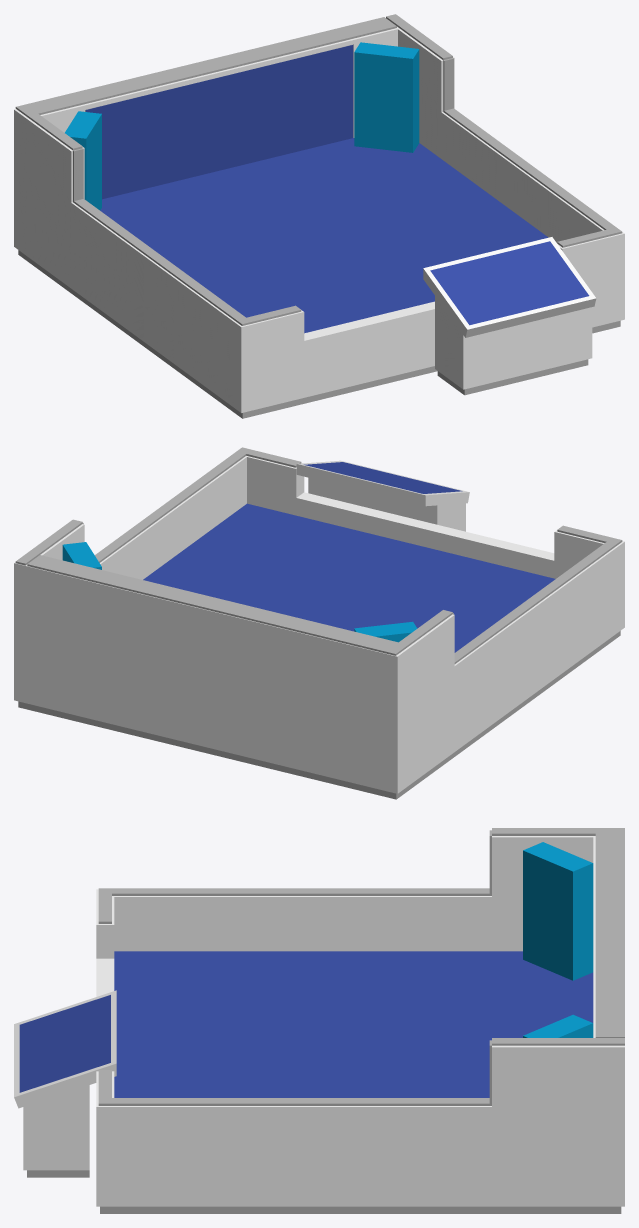
Rendered from arena.dae.
The picture shows the model from 3 angles, top to bottom: view 1: azimuth 30°, elevation 25°; view 2: azimuth 150°, elevation 25°; view 3: azimuth 270°, elevation 25°; orthographic projection. The views are drawn at different scales.
Parts seen in each view (by area): view 1: Floor_LED, pCube6, pCube7, pCube5, pCube4, Touchscreen2, Touchscreen.001, SnackBox, pCube16, pCube2, Touchscreen1, Sockel (+8 smaller); view 2: pCube2, Floor_LED, pCube7, pCube5, pCube4, pCube16, Sockel, Touchscreen2, Touchscreen1, pCube12, pCube18, Touchscreen.001 (+4 smaller); view 3: Floor_LED, pCube4, pCube7, SnackBox.001, Touchscreen.001, pCube16, pCube2, Touchscreen2, Sockel, pCube18, pCube12, Touchscreen1 (+4 smaller).
Boxes of the visible parts, x1=… form: Floor_LED: x1=100, y1=138, x2=548, y2=333; pCube6: x1=85, y1=44, x2=353, y2=199; pCube7: x1=27, y1=119, x2=254, y2=412; pCube5: x1=254, y1=236, x2=611, y2=409; pCube4: x1=398, y1=28, x2=624, y2=322; Touchscreen2: x1=435, y1=296, x2=592, y2=389; Touchscreen.001: x1=430, y1=241, x2=589, y2=325; SnackBox: x1=354, y1=42, x2=419, y2=152; pCube16: x1=26, y1=17, x2=396, y2=114; pCube2: x1=14, y1=26, x2=399, y2=256; Touchscreen1: x1=423, y1=237, x2=596, y2=337; Sockel: x1=18, y1=250, x2=620, y2=418; pCube2: x1=14, y1=562, x2=411, y2=793; Floor_LED: x1=143, y1=503, x2=555, y2=652; pCube7: x1=409, y1=541, x2=624, y2=783; pCube5: x1=247, y1=456, x2=604, y2=578; pCube4: x1=40, y1=456, x2=247, y2=579; pCube16: x1=27, y1=555, x2=398, y2=653; Sockel: x1=18, y1=631, x2=620, y2=799; Touchscreen2: x1=308, y1=477, x2=465, y2=531; Touchscreen1: x1=296, y1=460, x2=469, y2=506; pCube12: x1=454, y1=537, x2=622, y2=663; pCube18: x1=95, y1=447, x2=251, y2=562; Touchscreen.001: x1=304, y1=462, x2=462, y2=493; Floor_LED: x1=114, y1=951, x2=593, y2=1097; pCube4: x1=96, y1=1045, x2=593, y2=1206; pCube7: x1=96, y1=836, x2=593, y2=951; SnackBox.001: x1=523, y1=842, x2=593, y2=980; Touchscreen.001: x1=19, y1=995, x2=110, y2=1092; pCube16: x1=595, y1=833, x2=624, y2=1037; pCube2: x1=593, y1=836, x2=624, y2=1206; Touchscreen2: x1=23, y1=1085, x2=89, y2=1170; Sockel: x1=100, y1=1206, x2=621, y2=1213; pCube18: x1=98, y1=1098, x2=491, y2=1105; pCube12: x1=98, y1=888, x2=491, y2=895; Touchscreen1: x1=14, y1=990, x2=116, y2=1108.
Size of the model in its own units: 4.3 by 5.1 by 1.57.
